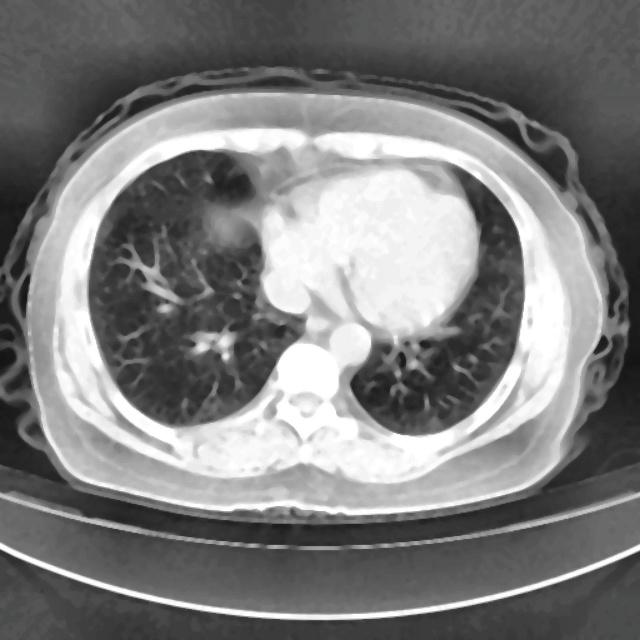covid: (2, 64, 630, 524)
